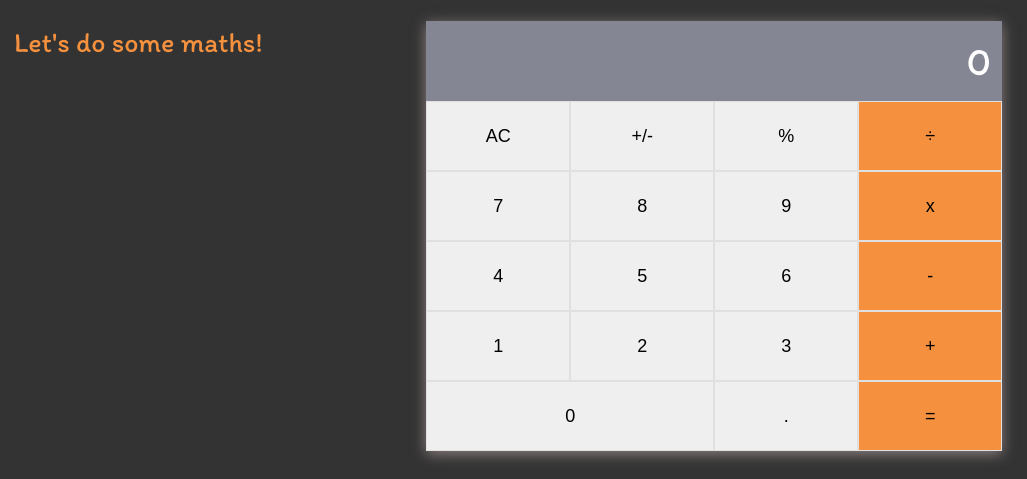
Test: Calculator › checks key press
The image size is (1027, 479).
Click the button "5". click: (642, 276)
box: [570,241,714,311]
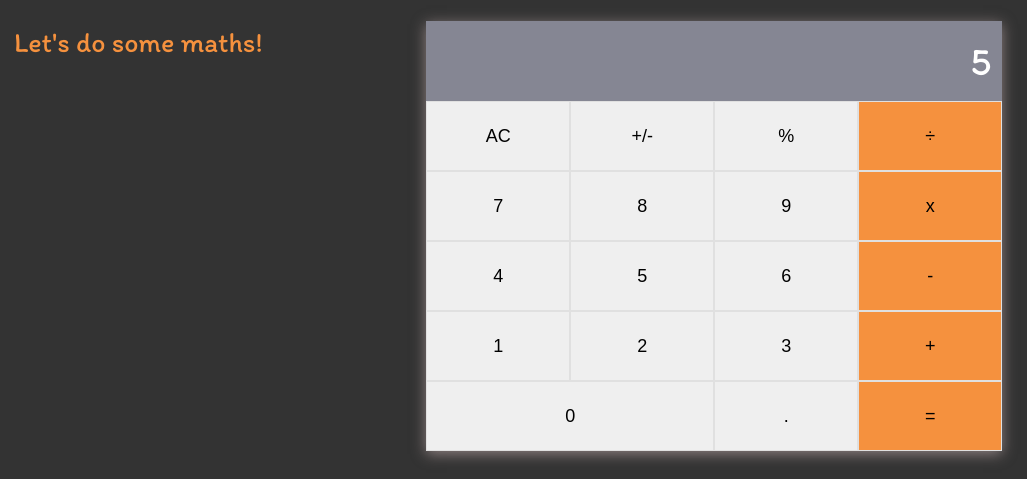
Click the button "2". click: (642, 346)
box: [570,311,714,381]
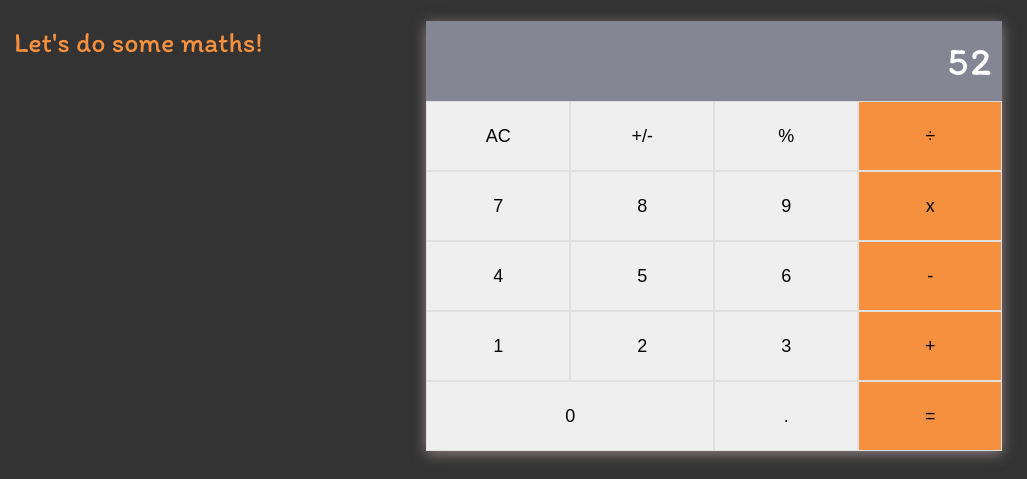
Result: the text "52" is shown at [426,21,1002,101]
